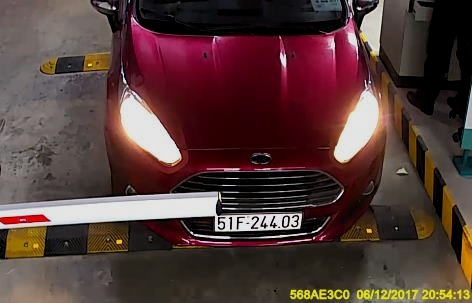plate: (213, 211, 305, 235)
